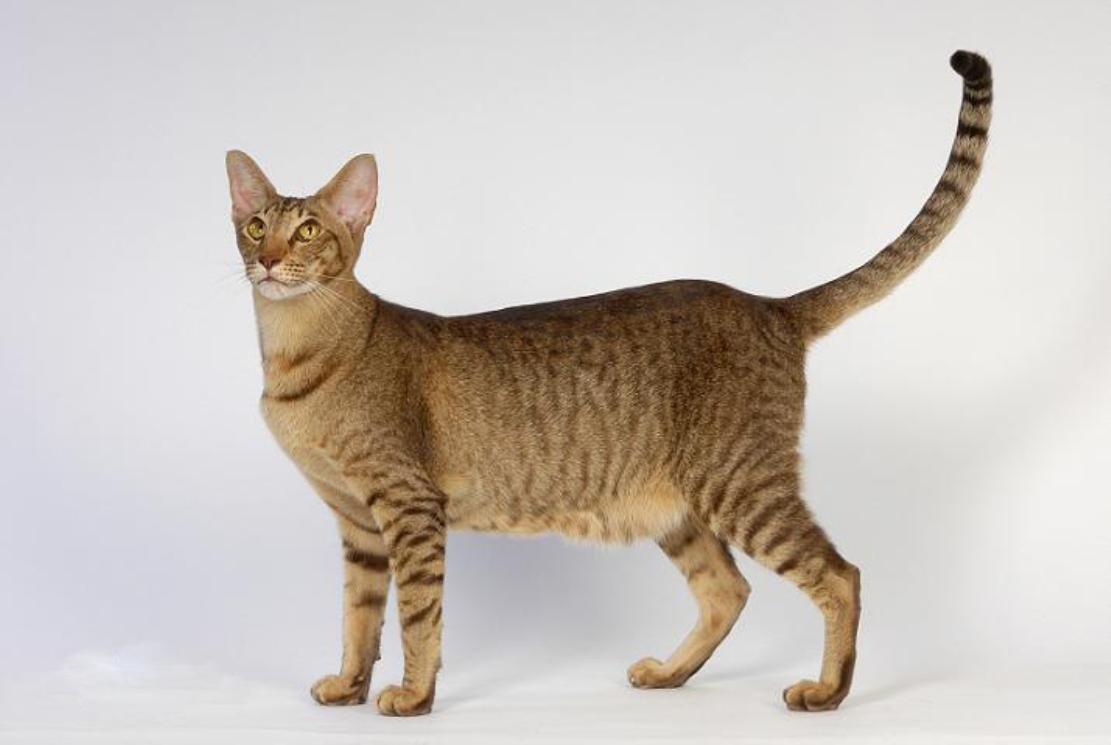cat: (203, 41, 1017, 727)
